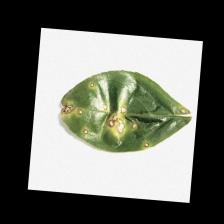canker: (57, 79, 191, 156)
